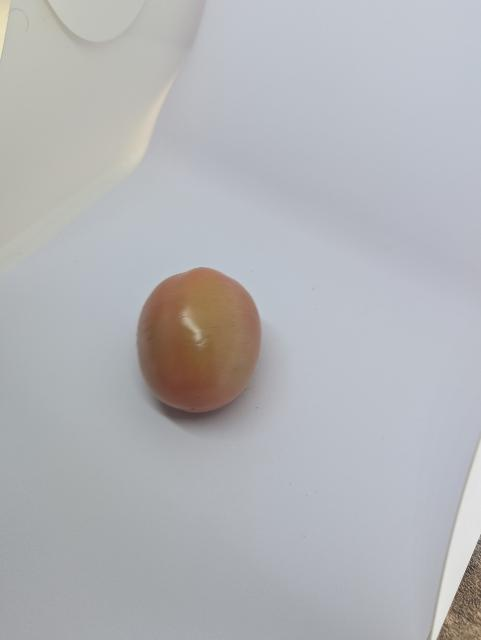turning: (129, 262, 266, 416)
